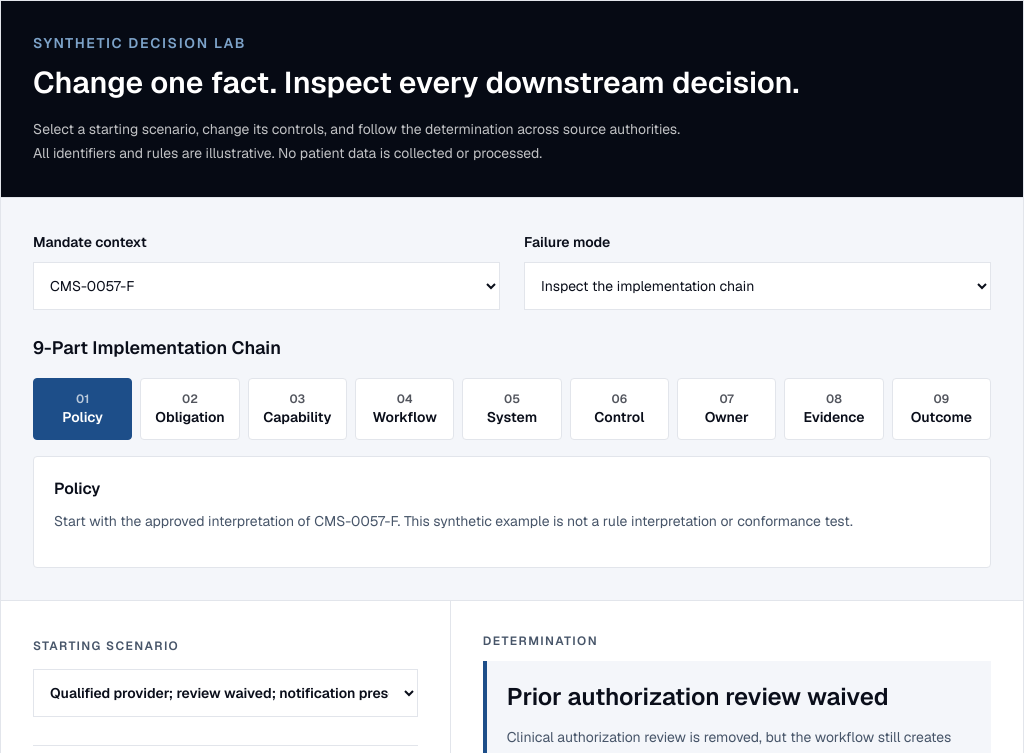
keeps simulated integration readiness separate from the authorization determination
Select "Core Platform Decoupling" in the dropdown labelled "Failure mode". click: x=758, y=286
box: top-left (524, 262), bottom-right (991, 310)
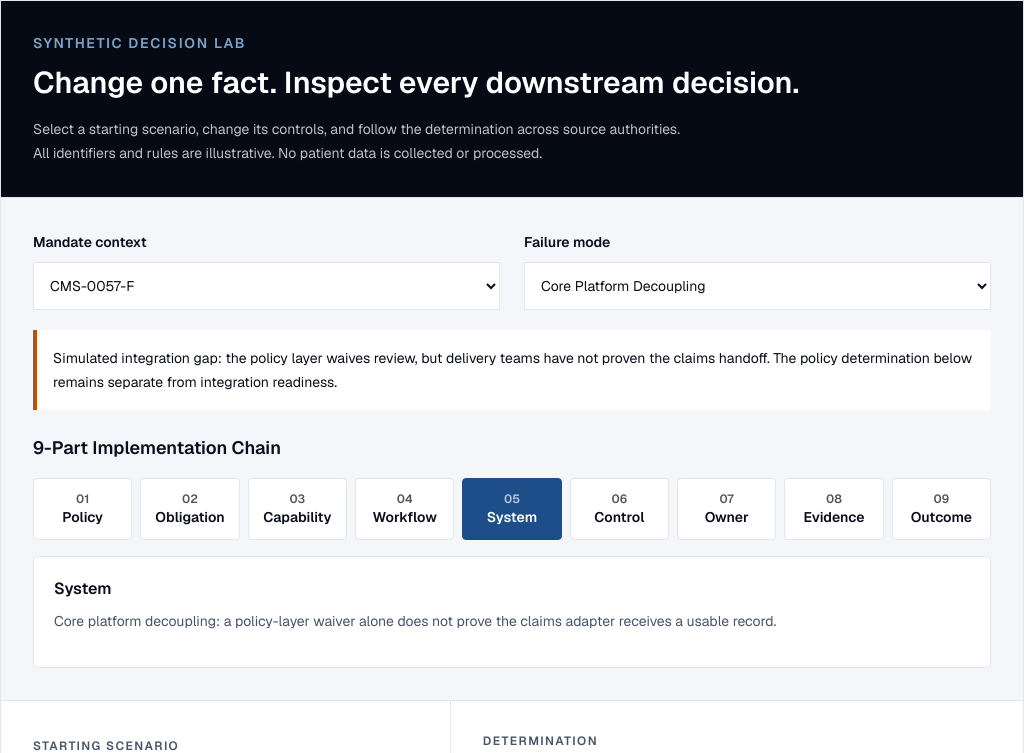
Expected: the message shows "have not proven the claims handoff", top-left (53, 349), bottom-right (972, 391)
Click the button "08 Evidence". click: x=834, y=509
box: top-left (784, 478), bottom-right (884, 540)
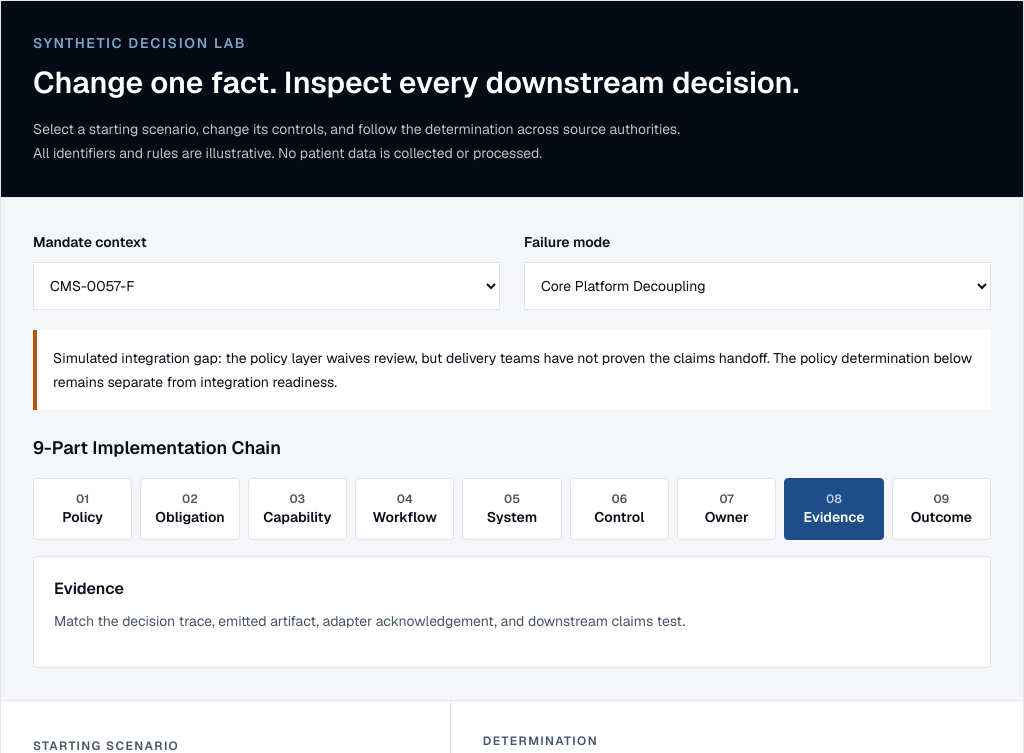
Expected: the text "adapter acknowledgement" is shown, top-left (54, 612), bottom-right (685, 630)
